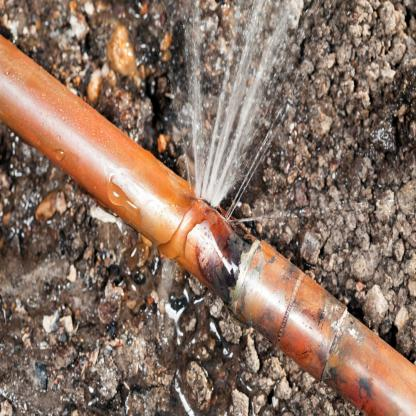burst: (173, 162, 272, 246)
